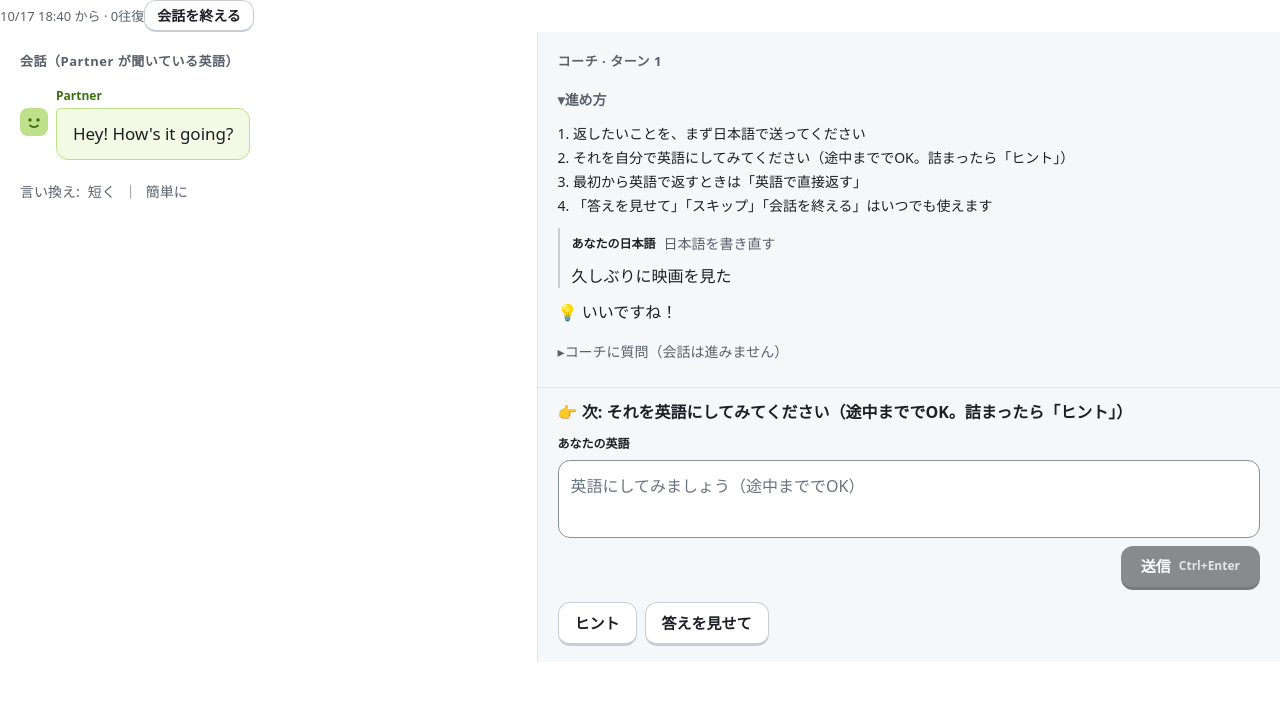
Test: ConversationScreen stage table (REQ-003) › closes the hint box with やめる
The image size is (1280, 720).
Click the button "ヒント": (597, 624) [558, 602, 637, 646]
(page scrolled)
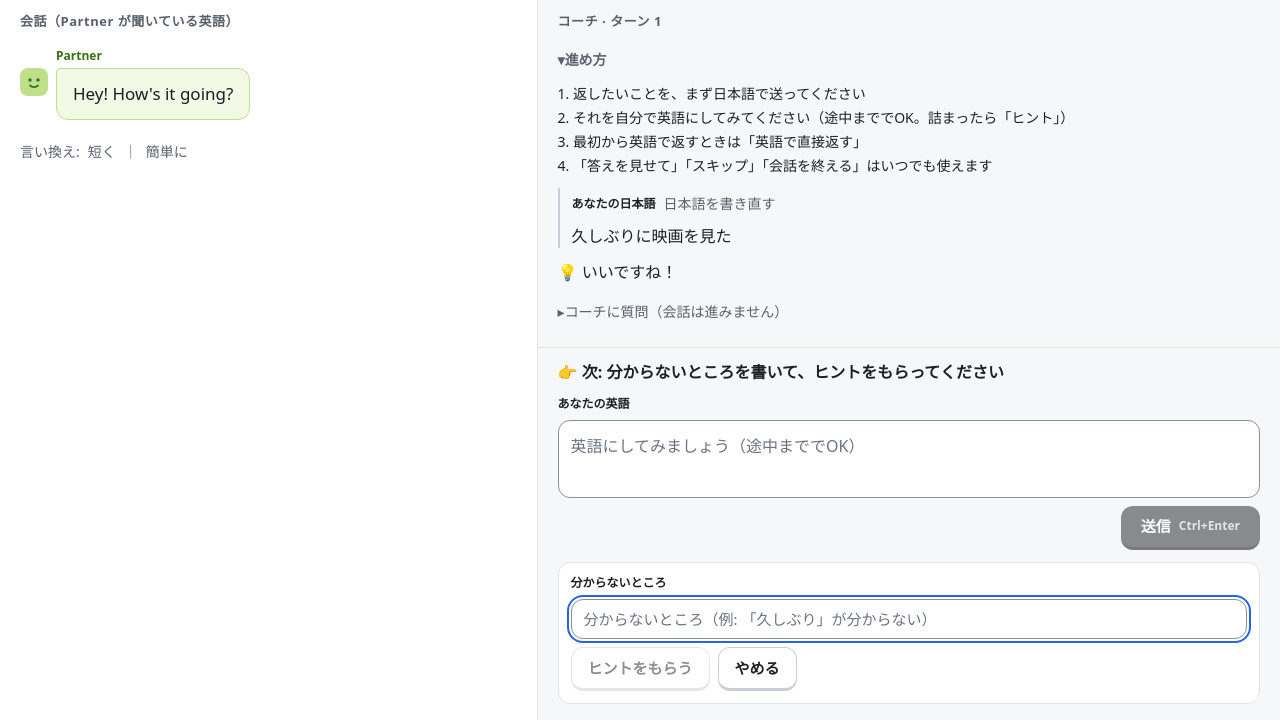
Click the button "やめる": (757, 669) [718, 647, 797, 691]
(page scrolled)
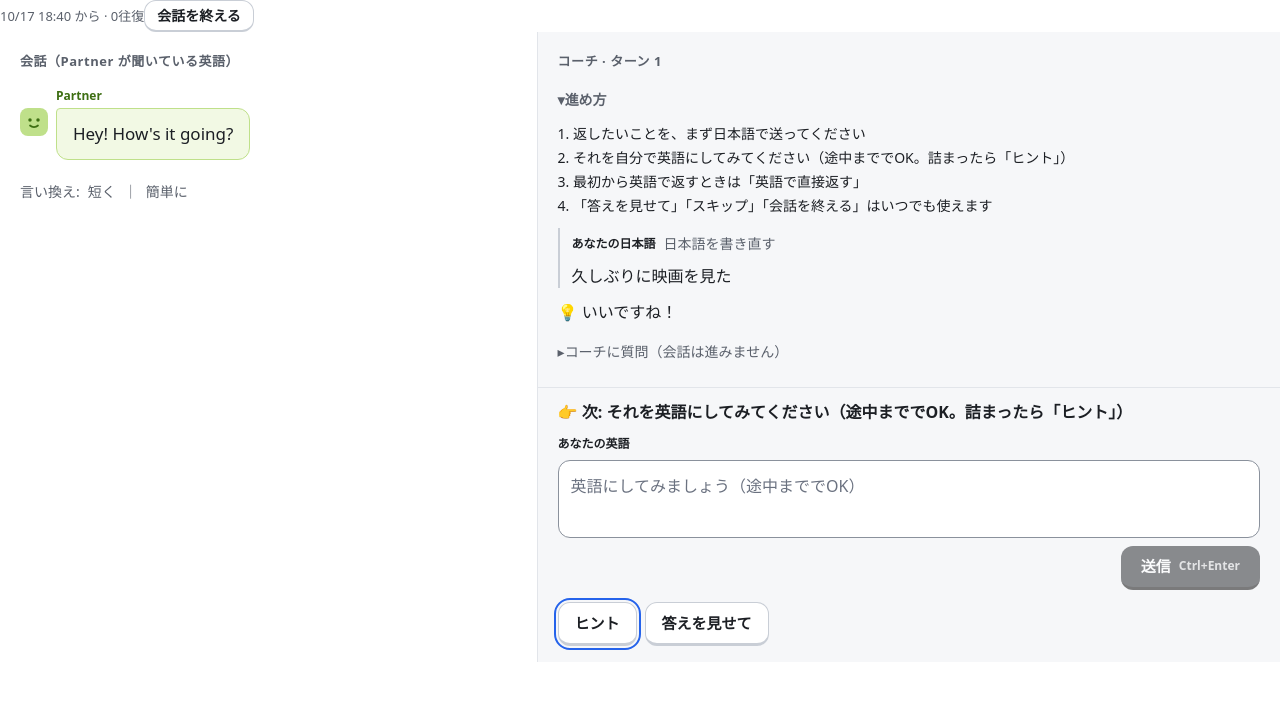
Check: the text "分からないところ" is gone
